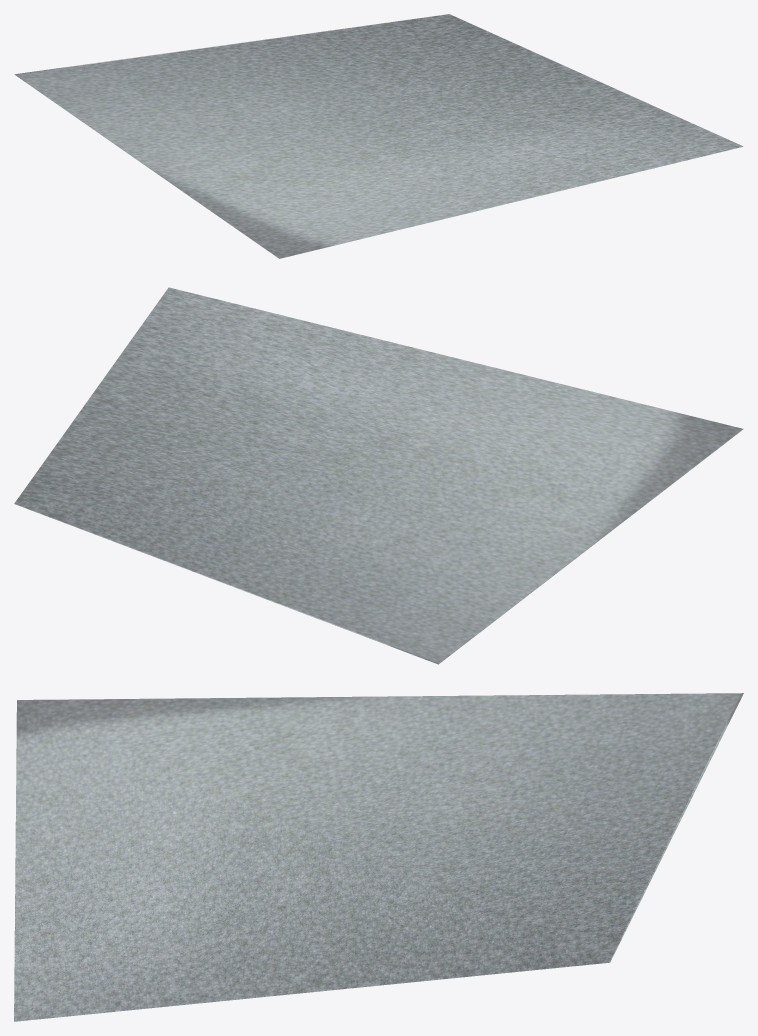
File: textura auditorio.fbx
3 views of the same model, one above another, from view 1: azimuth 30°, elevation 25°; view 2: azimuth 150°, elevation 25°; view 3: azimuth 270°, elevation 25° (orthographic). The views are drawn at different scales.
Parts seen in each view (by area): view 1: textura auditorio; view 2: textura auditorio; view 3: textura auditorio.
Part boxes in pixels (x1,y1,x2,y2): textura auditorio: [14, 14, 743, 258]; textura auditorio: [14, 287, 743, 664]; textura auditorio: [14, 693, 743, 1021].
Bounding box in the file's own units: 6.71 × 6.99e-05 × 6.3.
1 material, 1 textured.
